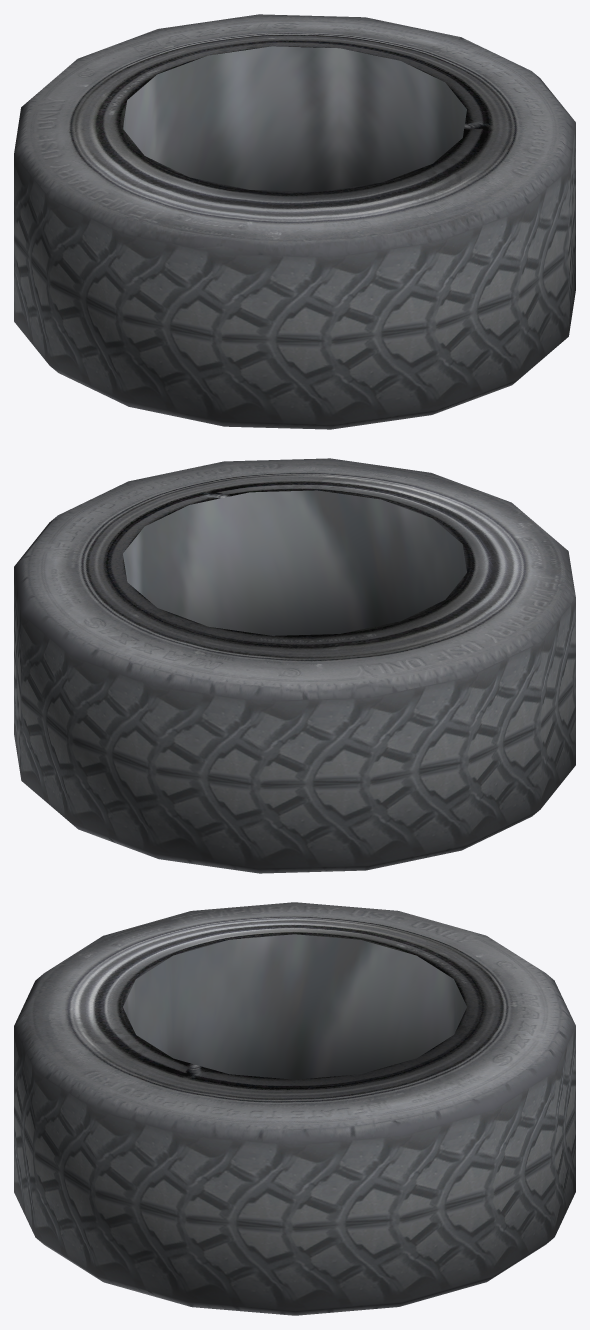
The model's file is Tyre.fbx.
3 renders of one model, top to bottom at view 1: azimuth 30°, elevation 25°; view 2: azimuth 150°, elevation 25°; view 3: azimuth 270°, elevation 25°, orthographic.
Visible parts, largest first — view 1: Tyre; view 2: Tyre; view 3: Tyre.
Boxes of the visible parts, x1,y1,x2,y2 form: Tyre: (14,14,575,429); Tyre: (14,458,575,873); Tyre: (14,902,575,1315).
Bounding box in the file's own units: 0.7988 × 0.3198 × 0.7988.
